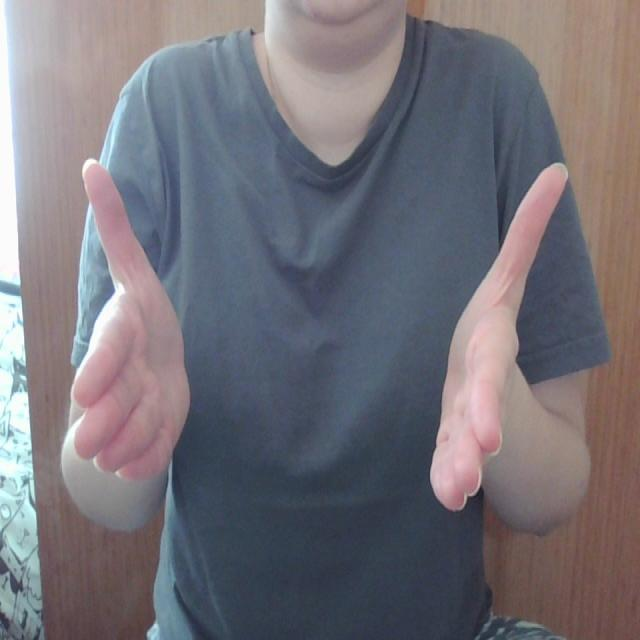Nasil: (70, 143, 574, 539)
